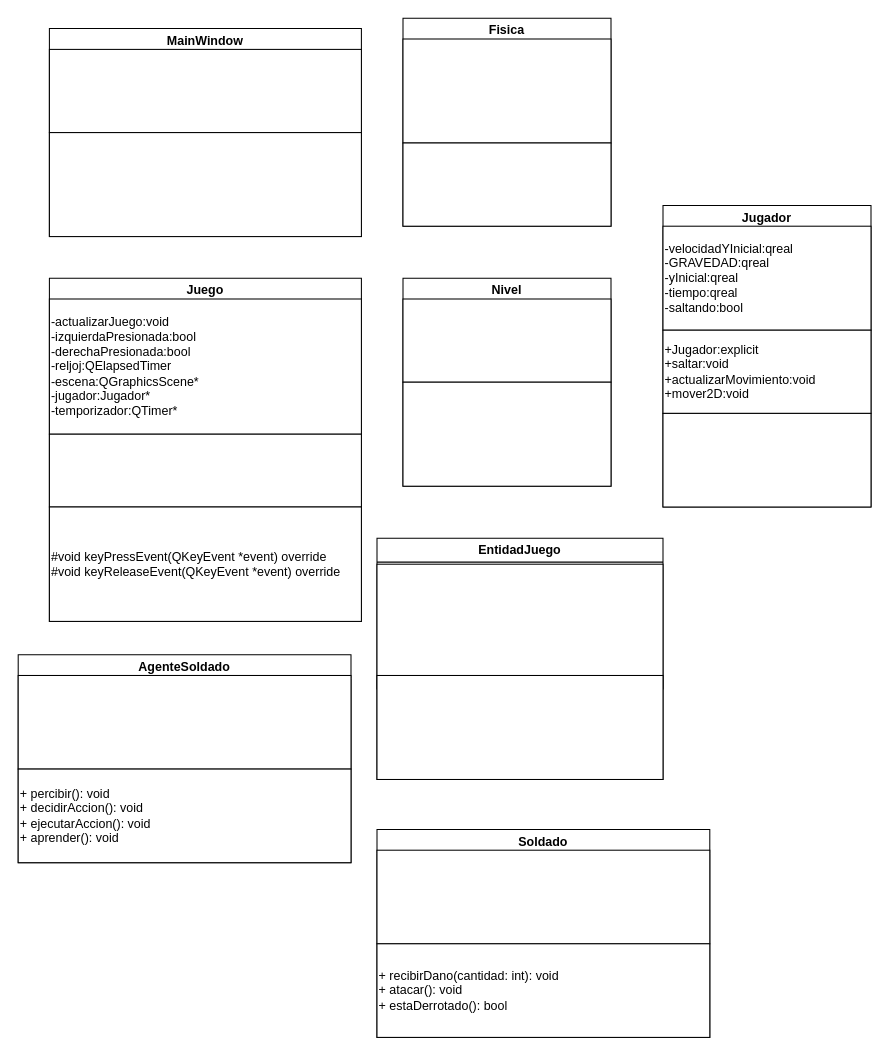
The diagram is 889 pixels wide and 1056 high, and some of its shapes have lost their labels. Here are the shapes that lost their labels. From the top down, the centre of each, then its label:
point 204,90: -texto:Qlabel* -boton:QpushButton* -botonSalir:QpushButton* -juego:Juego*
point 204,184: +explicit MainWindow(Qwidget *parent = nullptr) +~MainWindow()
point 204,470: +explicit:Juego(QWodget *parent = nulltpr)
point 519,726: + actualizarMovimiento(deltaTiempo: qreal): void + obtenerPosicion(): QPointF
